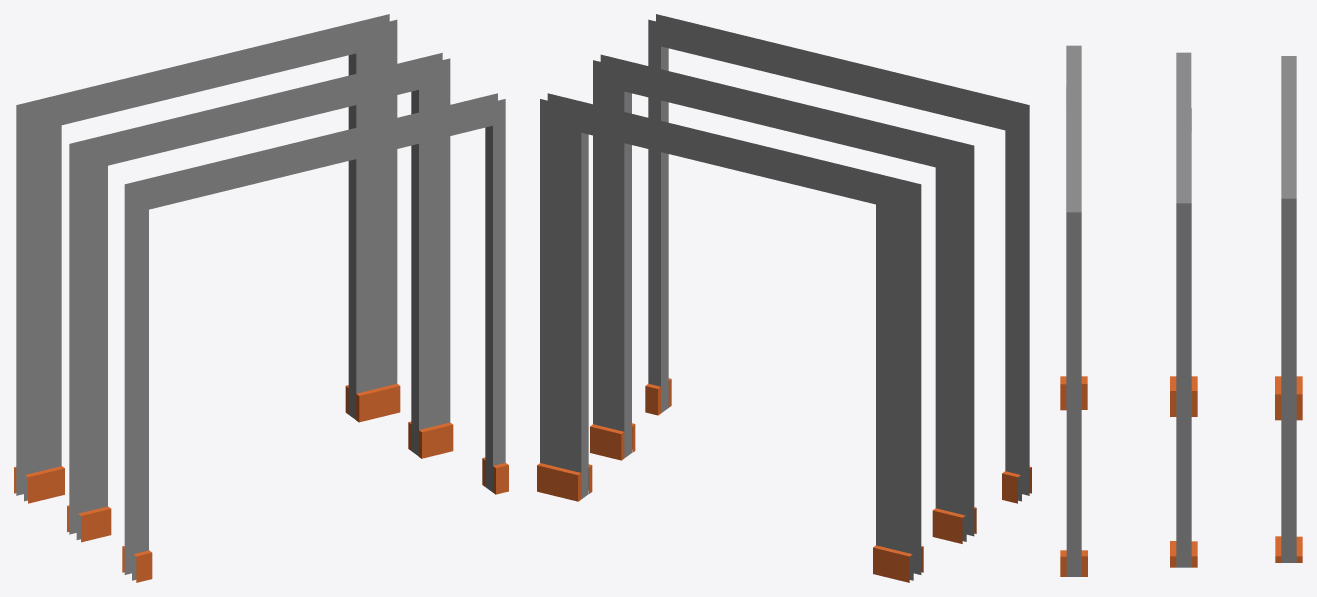
File: ModuleE_doorframedouble2.FBX
3 views of the same model, side by side, from view 1: azimuth 30°, elevation 25°; view 2: azimuth 150°, elevation 25°; view 3: azimuth 270°, elevation 25° (orthographic).
Visible parts, largest first — view 1: Interior_door_a008, Interior_door_a009, Interior_door_a010, Interior_doorskb_007, Interior_doorskb_008, Interior_doorskb_009; view 2: Interior_door_a008, Interior_door_a009, Interior_door_a010, Interior_doorskb_007, Interior_doorskb_008, Interior_doorskb_009; view 3: Interior_door_a010, Interior_door_a009, Interior_door_a008, Interior_doorskb_007, Interior_doorskb_008, Interior_doorskb_009.
Part boxes in pixels (left/top/right/bottom): Interior_door_a008: left=16, top=14, right=397, bottom=501; Interior_door_a009: left=69, top=53, right=450, bottom=539; Interior_door_a010: left=124, top=93, right=505, bottom=580; Interior_doorskb_007: left=14, top=384, right=400, bottom=503; Interior_doorskb_008: left=67, top=421, right=453, bottom=542; Interior_doorskb_009: left=122, top=457, right=508, bottom=582; Interior_door_a008: left=540, top=93, right=921, bottom=580; Interior_door_a009: left=593, top=54, right=974, bottom=541; Interior_door_a010: left=648, top=14, right=1029, bottom=501; Interior_doorskb_007: left=537, top=463, right=923, bottom=582; Interior_doorskb_008: left=590, top=423, right=976, bottom=543; Interior_doorskb_009: left=645, top=378, right=1031, bottom=503; Interior_door_a010: left=1066, top=45, right=1081, bottom=576; Interior_door_a009: left=1176, top=52, right=1191, bottom=567; Interior_door_a008: left=1281, top=56, right=1296, bottom=562; Interior_doorskb_007: left=1275, top=376, right=1302, bottom=562; Interior_doorskb_008: left=1170, top=376, right=1197, bottom=567; Interior_doorskb_009: left=1060, top=376, right=1087, bottom=576.
Size of the model in its own units: 78.8 by 44.63 by 78.77.
